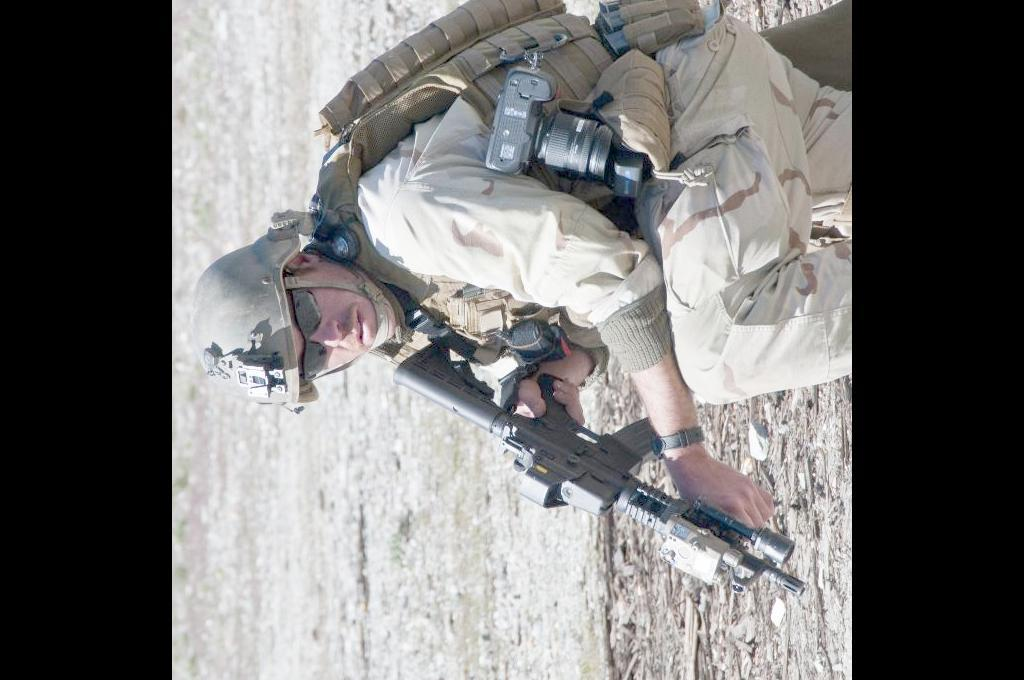gun: (386, 347, 808, 597)
